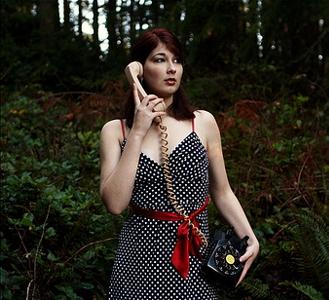person: (100, 27, 261, 300)
